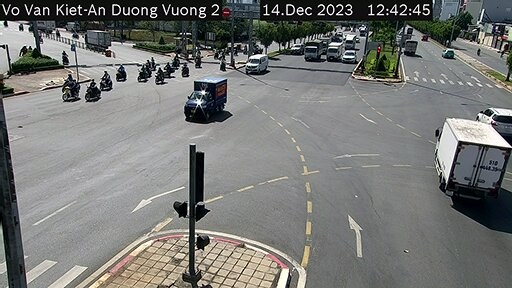car: (473, 97, 512, 134), (242, 53, 269, 72), (320, 41, 342, 62), (339, 49, 360, 69), (442, 44, 455, 61)
motorbike: (63, 72, 80, 104), (81, 80, 105, 97), (113, 63, 131, 85), (176, 62, 194, 82), (135, 65, 149, 82), (58, 51, 72, 68), (152, 68, 164, 87), (100, 72, 117, 83)
truck: (426, 112, 503, 197), (184, 70, 230, 120), (83, 30, 118, 49), (299, 39, 322, 64), (399, 38, 421, 59)
